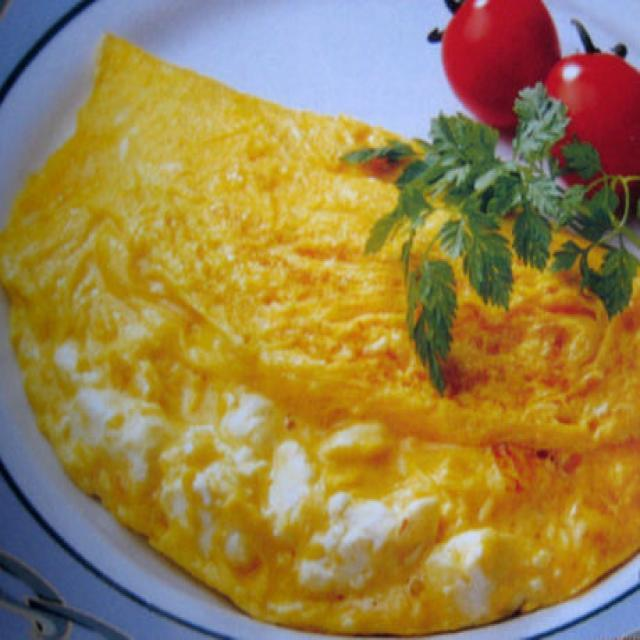Omelet: (0, 40, 636, 618)
